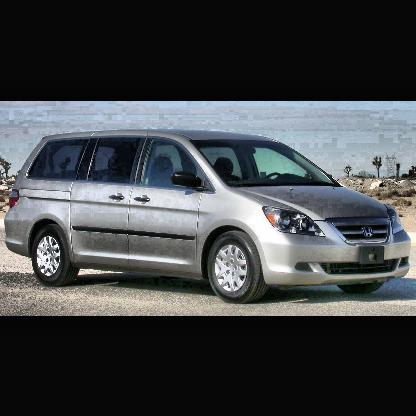Honda Odyssey Minivan 2007: (6, 130, 413, 304)
